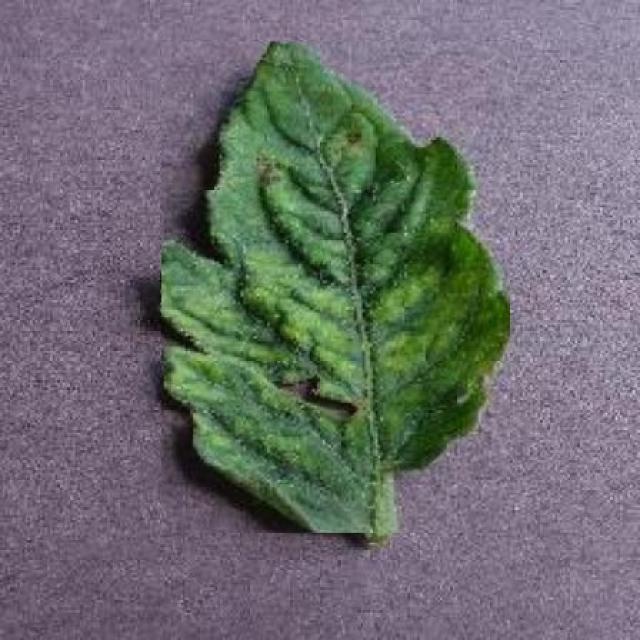Mosaic Virus: (161, 41, 510, 533)
